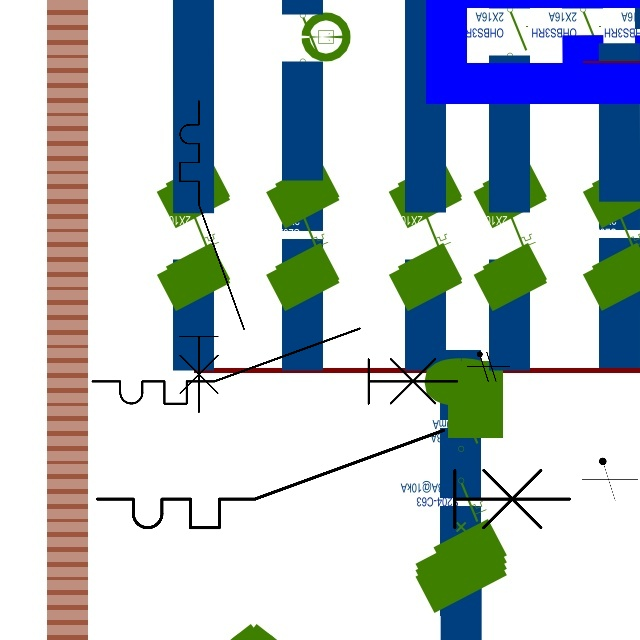interruptor_termomagnetico: (85, 418, 582, 540), (83, 319, 466, 413), (172, 93, 252, 420)
